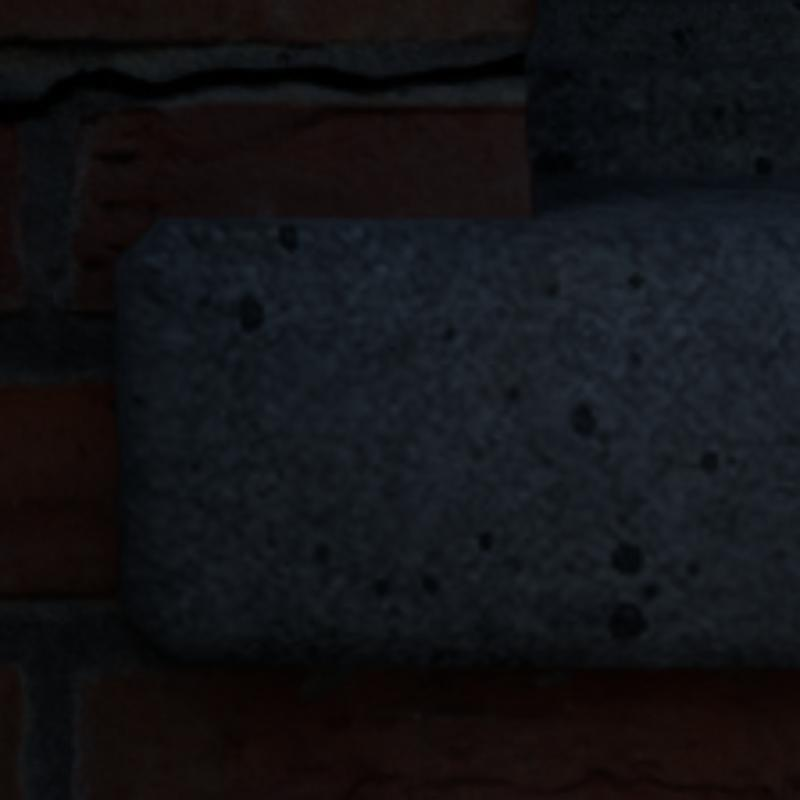crack: (0, 64, 518, 118)
